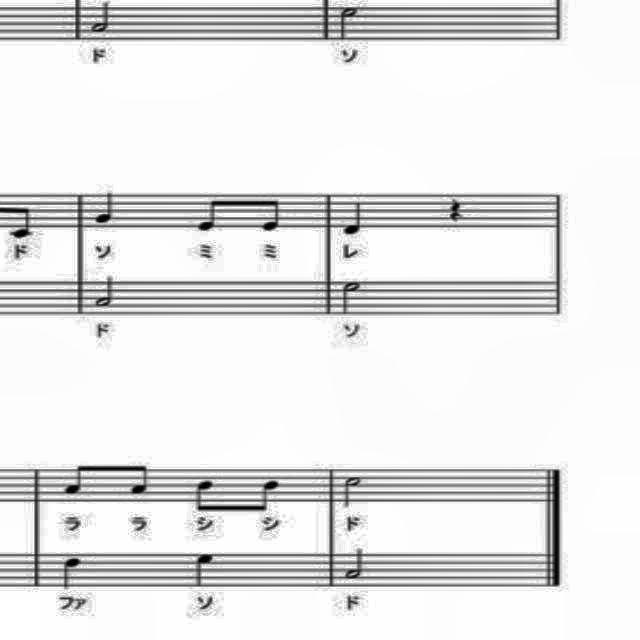Eighth-note: (184, 468, 218, 516), (6, 197, 38, 243), (61, 456, 95, 499), (125, 454, 155, 502), (192, 192, 224, 236), (258, 194, 290, 238), (250, 475, 282, 517)
Half-note: (339, 469, 367, 509), (334, 2, 362, 40), (339, 278, 367, 316), (88, 0, 116, 36), (343, 546, 367, 586), (94, 272, 118, 312)
Quarter-note: (341, 198, 373, 242), (92, 188, 120, 228), (192, 550, 220, 590), (59, 555, 87, 593)
Quarter-rest: (440, 193, 468, 224)
